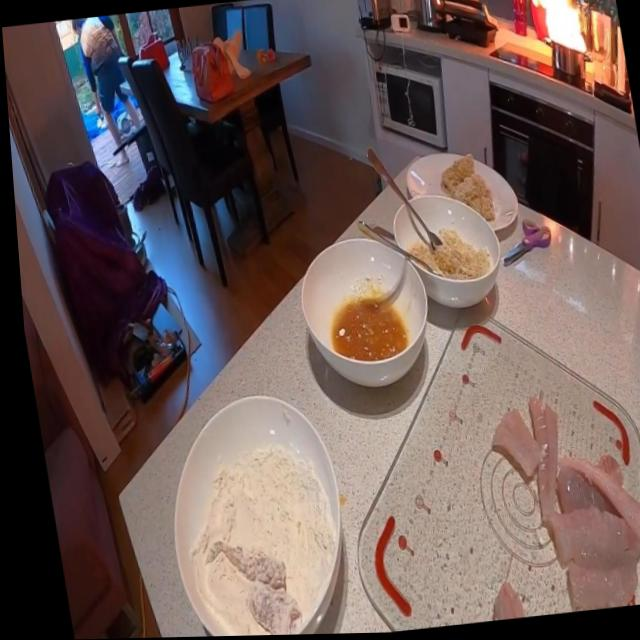fire: (526, 0, 588, 61)
